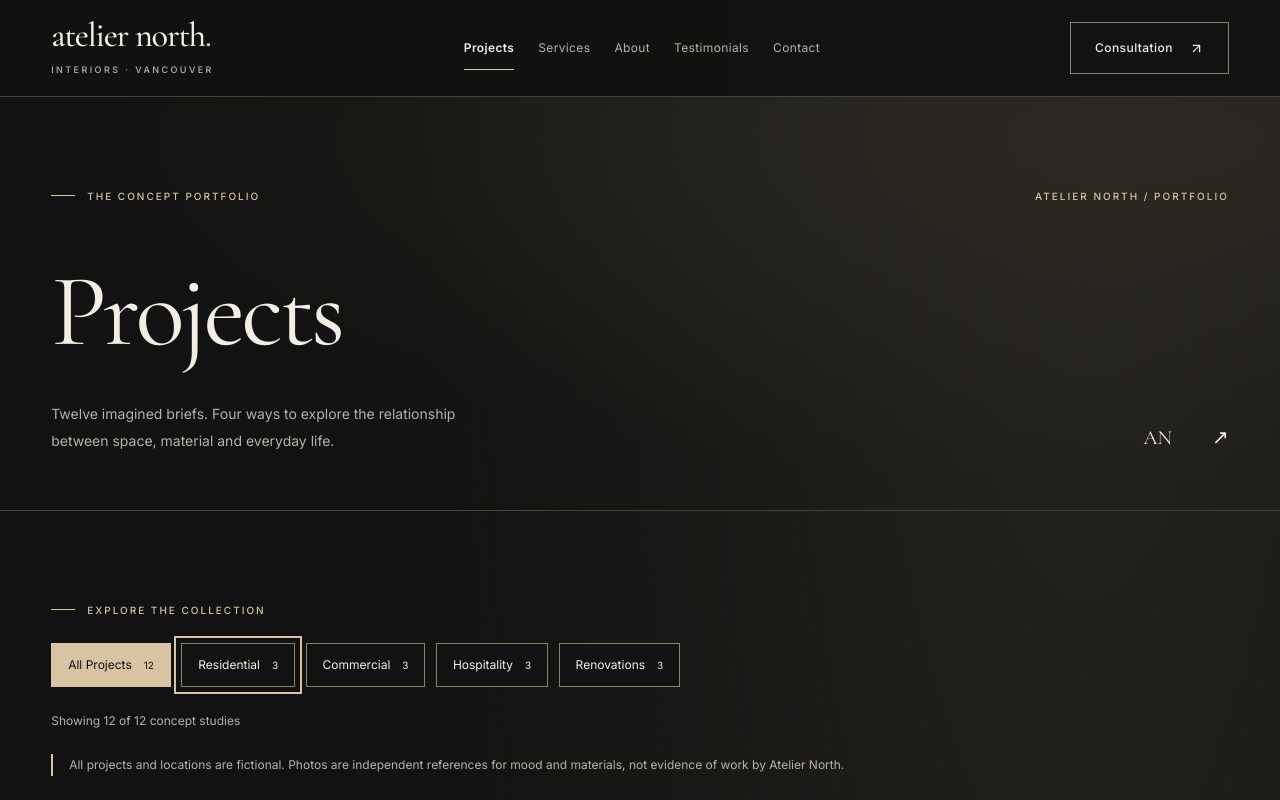
project category filters › selects Residential with the right cards, count and active state
The width and height of the screenshot is (1280, 800).
Check: the heading "Projects" is shown, box [51,249,342,373]
Click the button "Residential 3" at (238, 665), box [181,643,295,687]
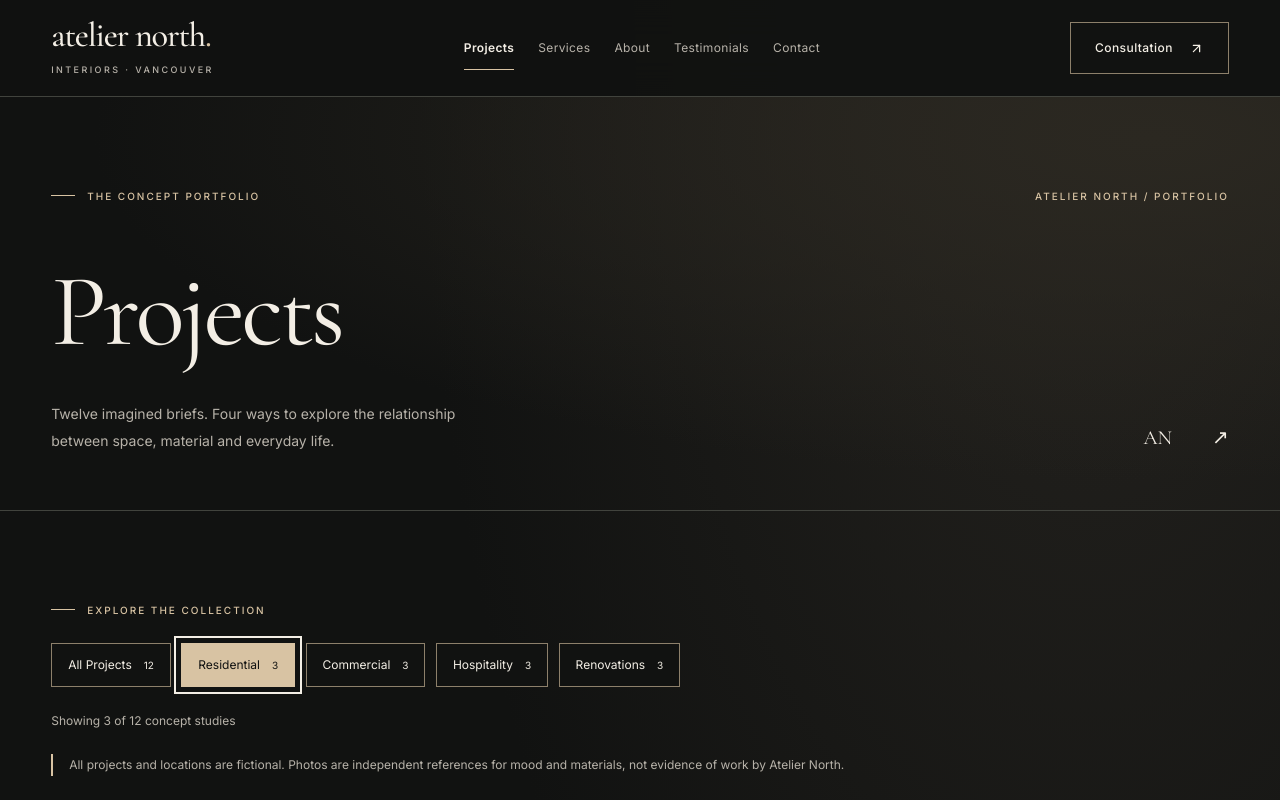
Check: the message shows "Showing 3 of 12", box [51,713,236,728]
Click the button "All Projects 12" at (111, 665), box [51,643,171,687]
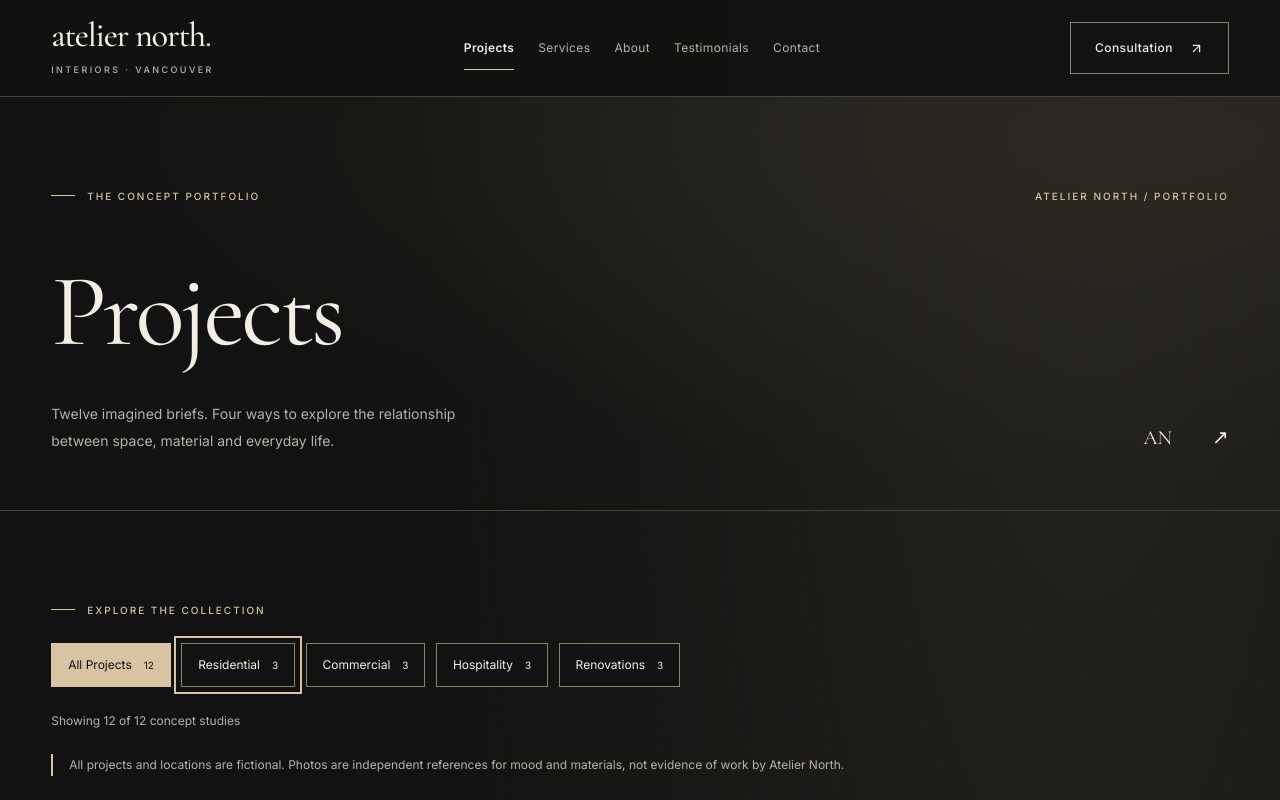
Check: the message shows "Showing 12 of 12", box [51,713,240,728]
